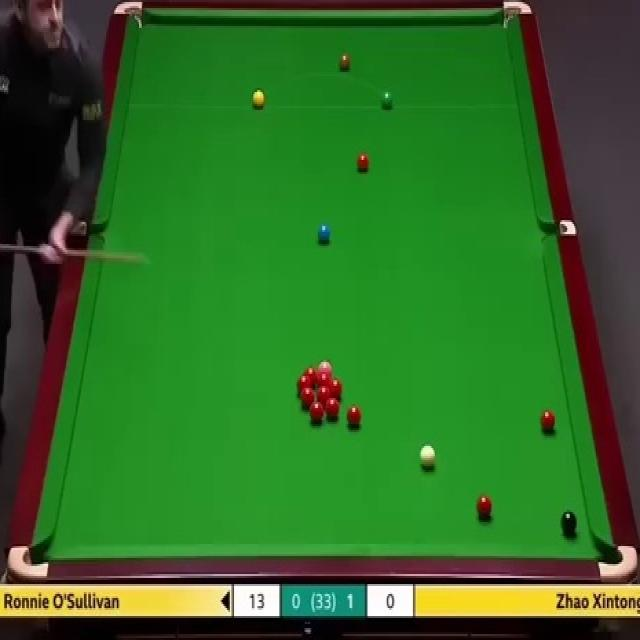black-ball: (561, 511, 578, 536)
blue-ball: (316, 222, 331, 245)
brown-ball: (338, 54, 351, 74)
green-ball: (379, 91, 395, 112)
pink-ball: (318, 361, 332, 372)
red-ball: (540, 411, 557, 437), (323, 396, 339, 421), (477, 495, 493, 518), (297, 377, 313, 398), (346, 407, 360, 428), (310, 397, 323, 418), (300, 390, 315, 408), (329, 379, 342, 398), (356, 154, 369, 173), (304, 368, 318, 382), (316, 371, 328, 387), (318, 385, 331, 399)
white-ball: (420, 445, 436, 467)
yellow-ball: (252, 90, 265, 110)
